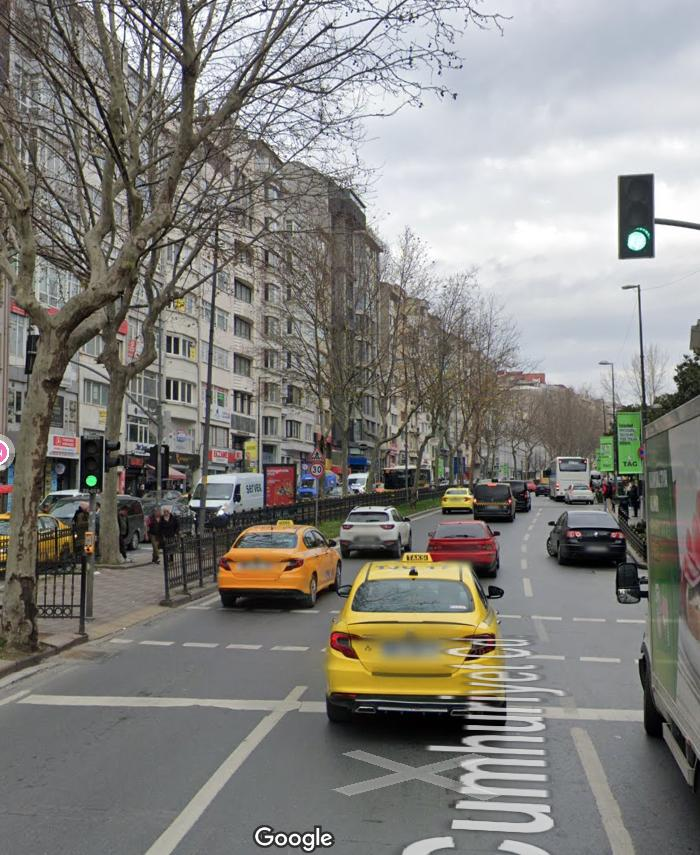greenlight: (619, 172, 656, 264), (78, 433, 105, 493)
